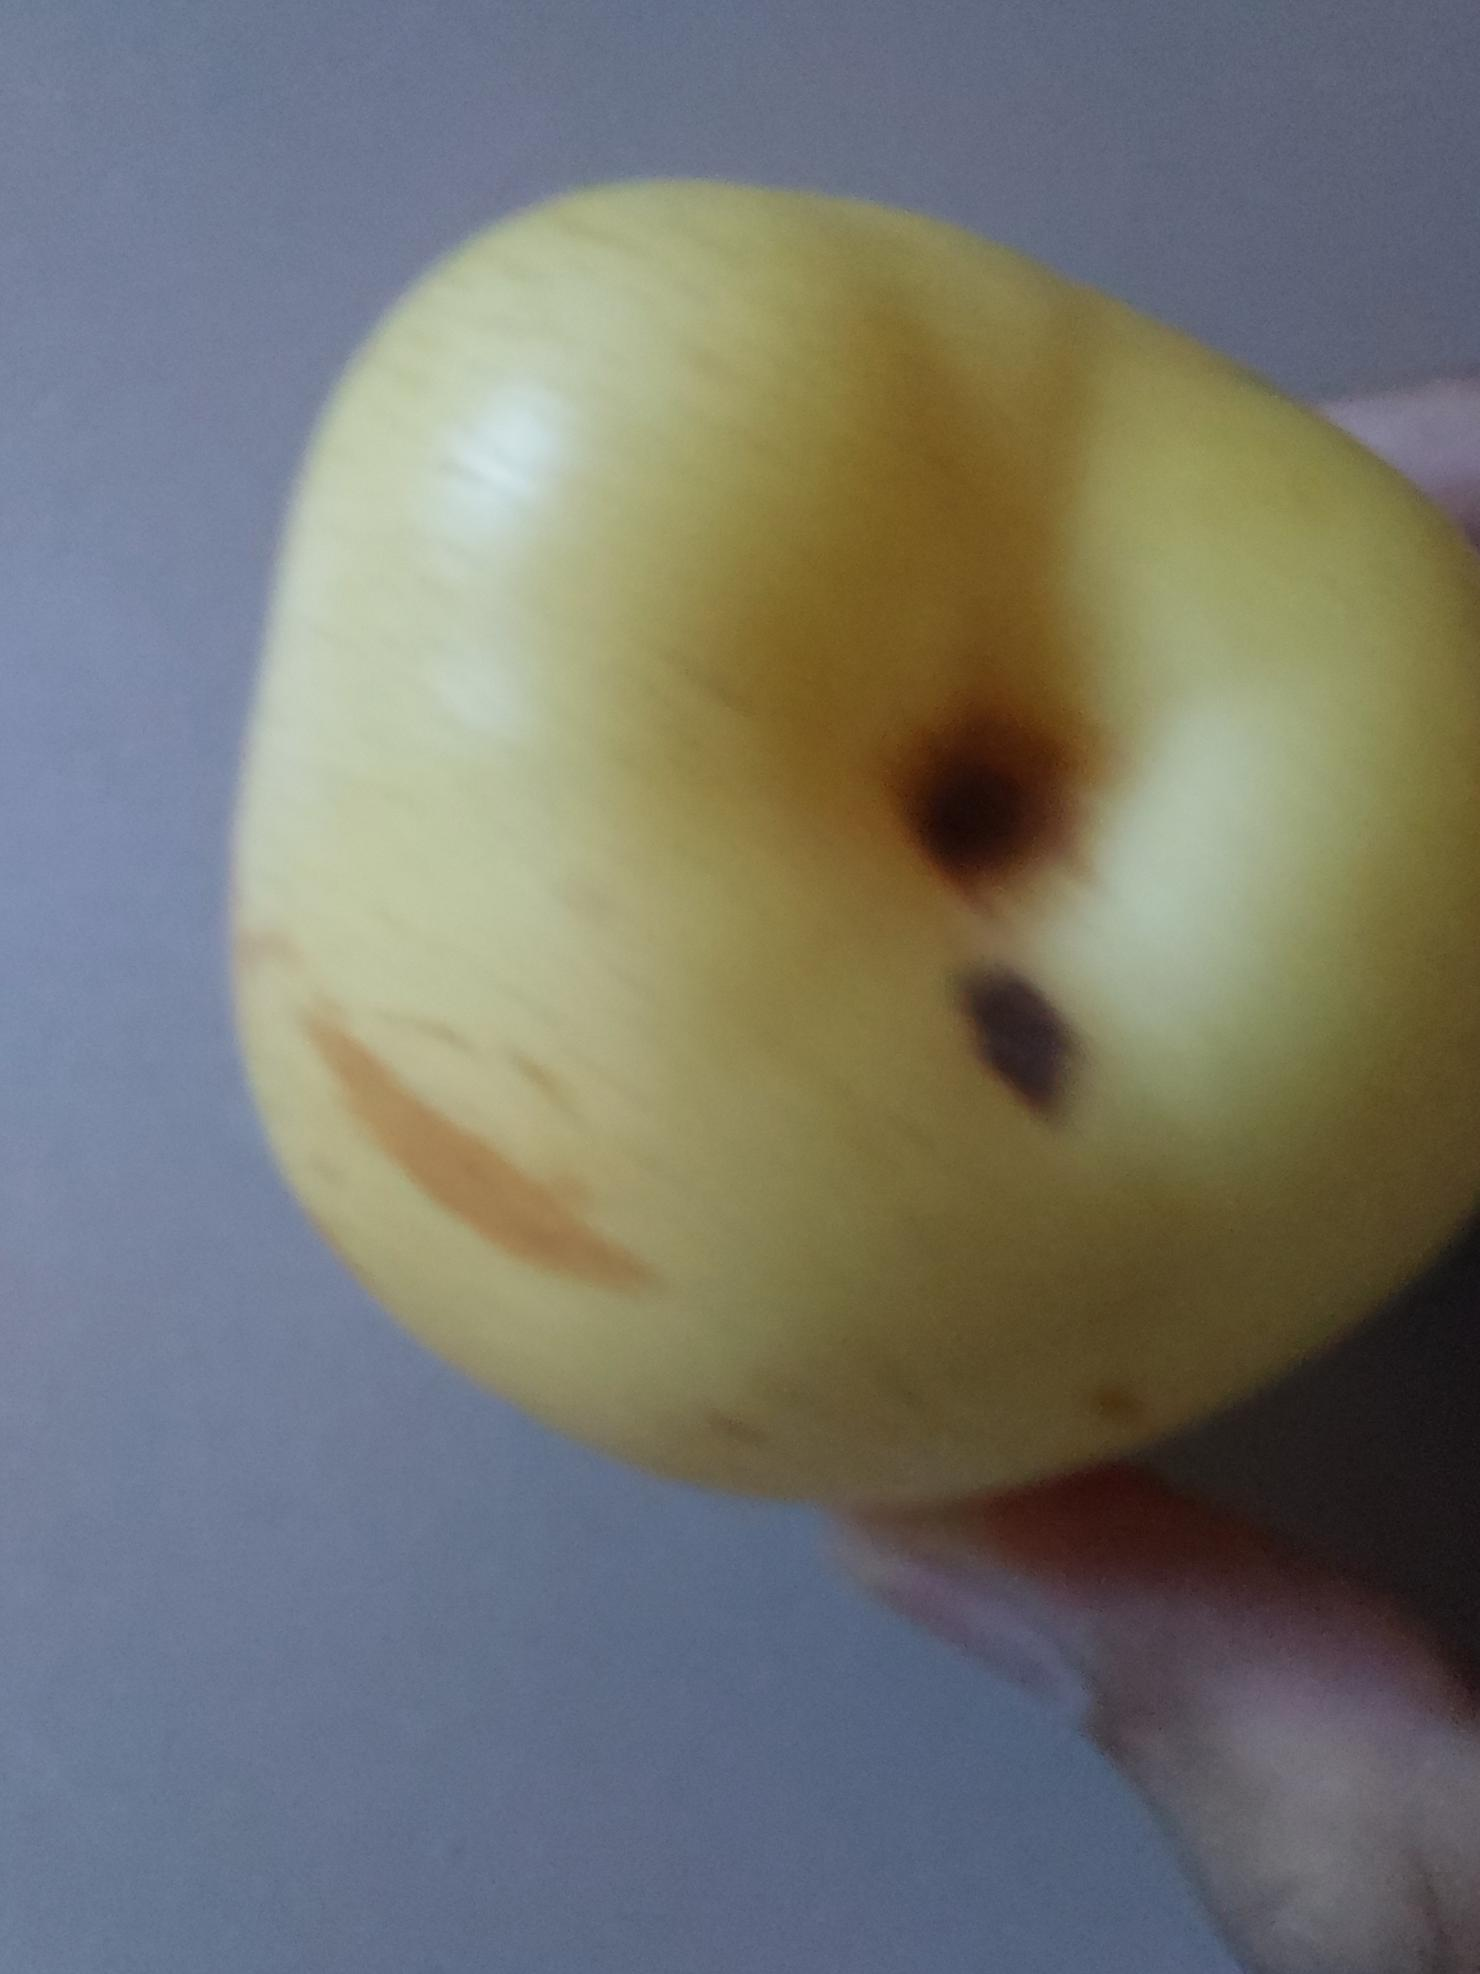Good Pear: (226, 167, 1480, 1523)
